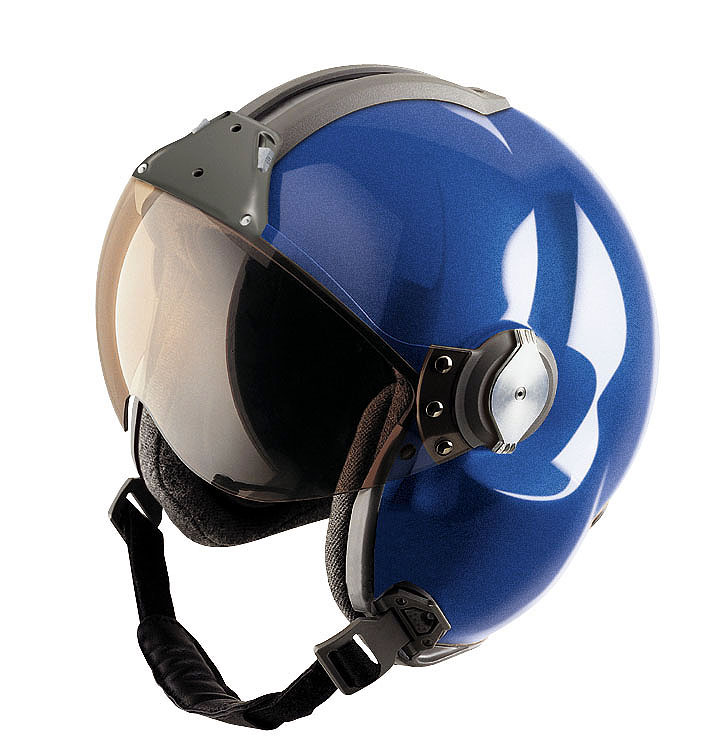helmet: (145, 74, 647, 619)
